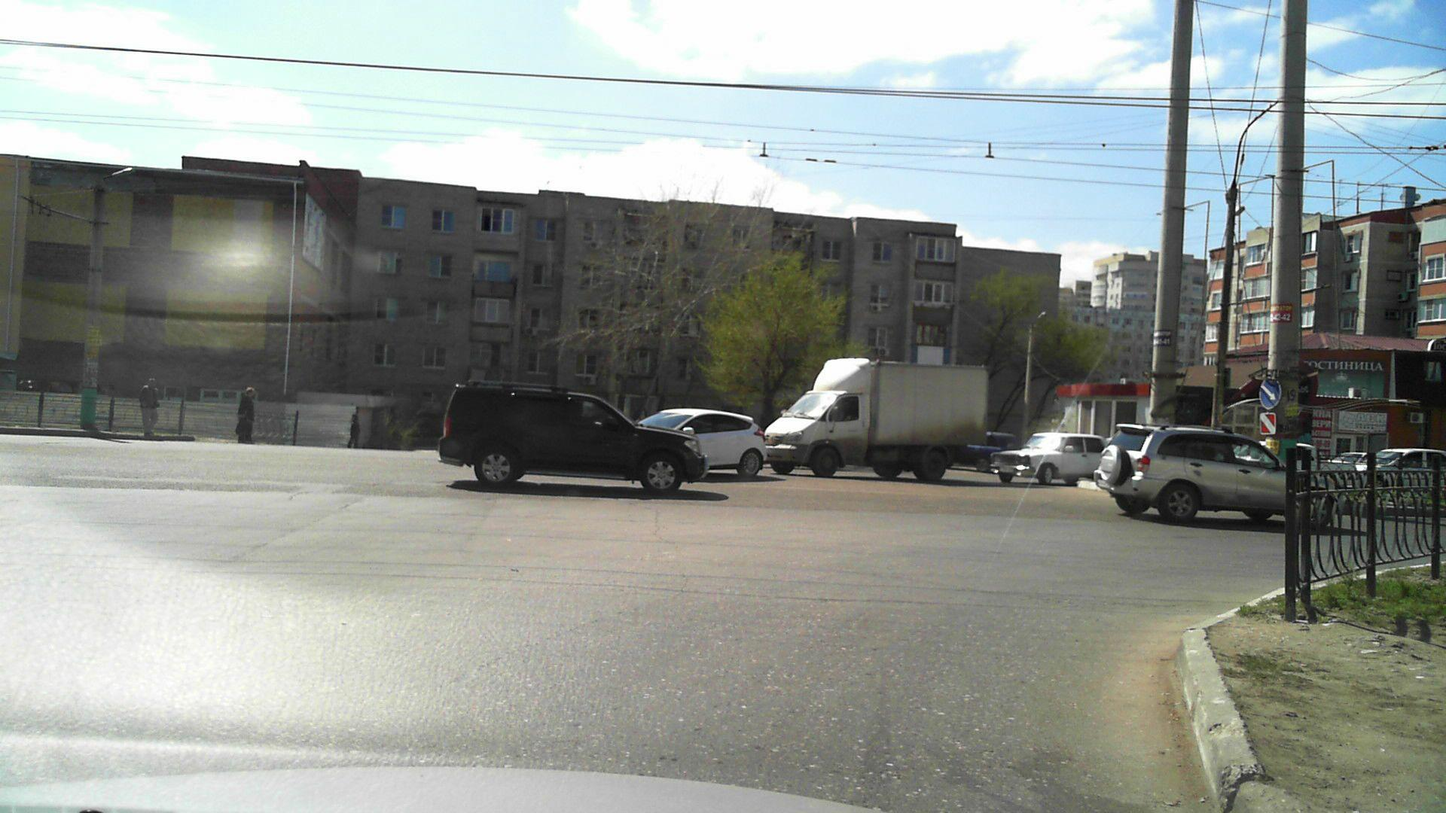road_sign: (1260, 378, 1281, 410), (1260, 412, 1276, 435)
